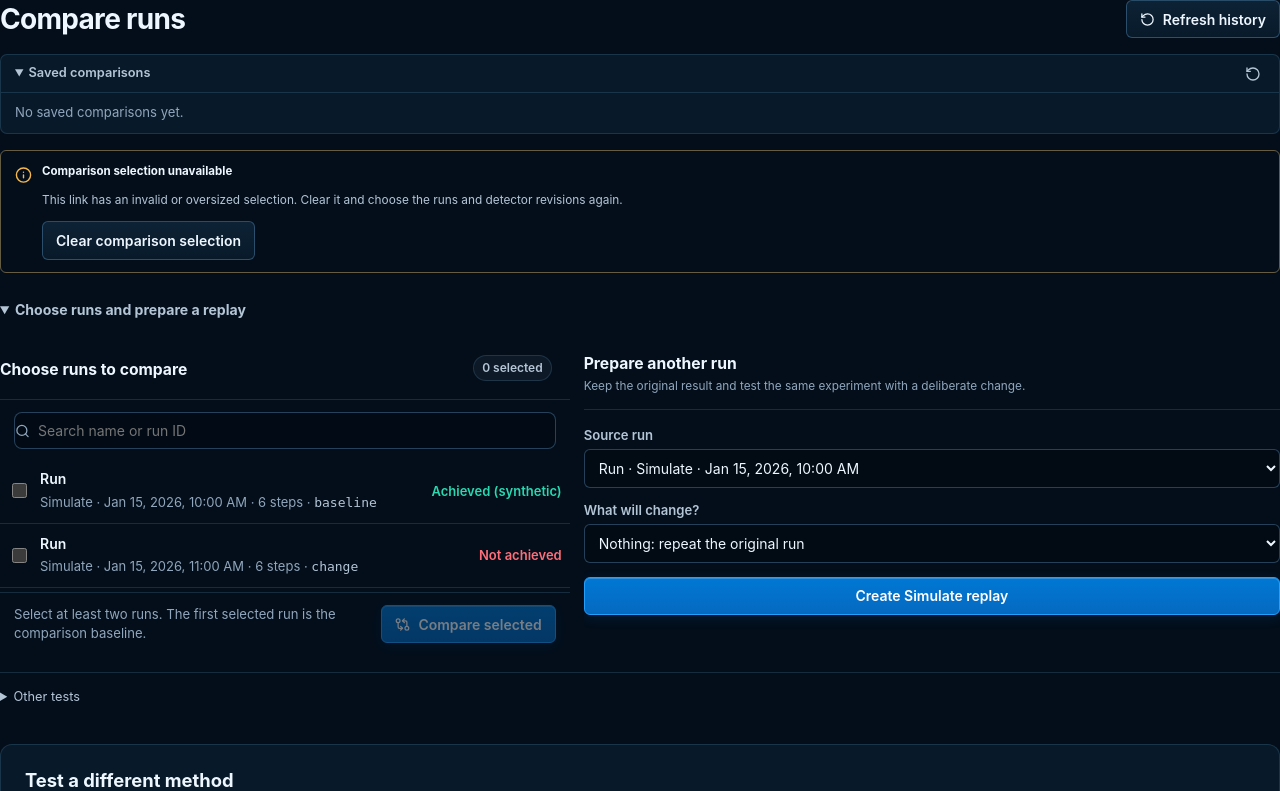
Test: keeps malformed context explicit and repairs it without falling back to legacy runs
Expected: the text "Comparison selection unavailable" is shown, [42, 164, 232, 178]
Click the button "Clear comparison selection" at (149, 241), box [42, 221, 255, 260]
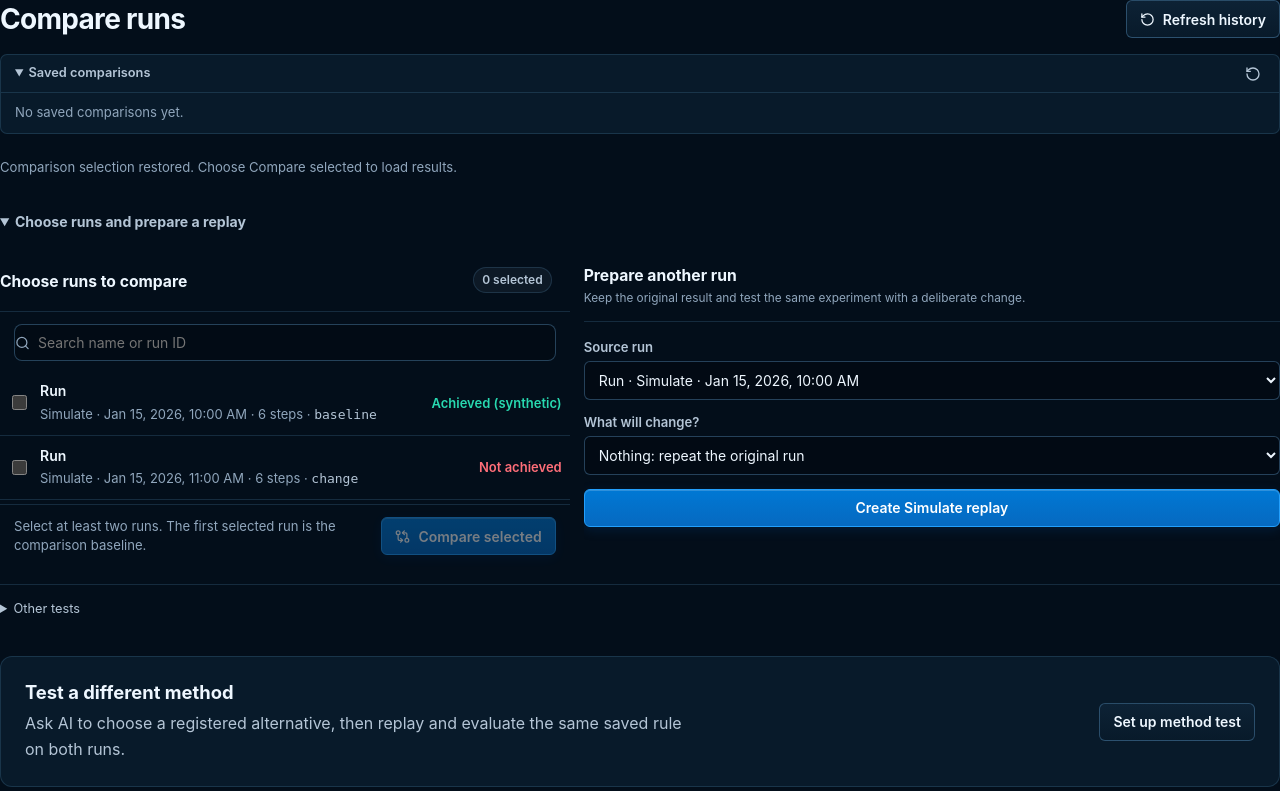
Expected: the button "Compare selected" is disabled, [381, 517, 556, 555]
Expected: the text "Comparison selection unavailable" is gone
